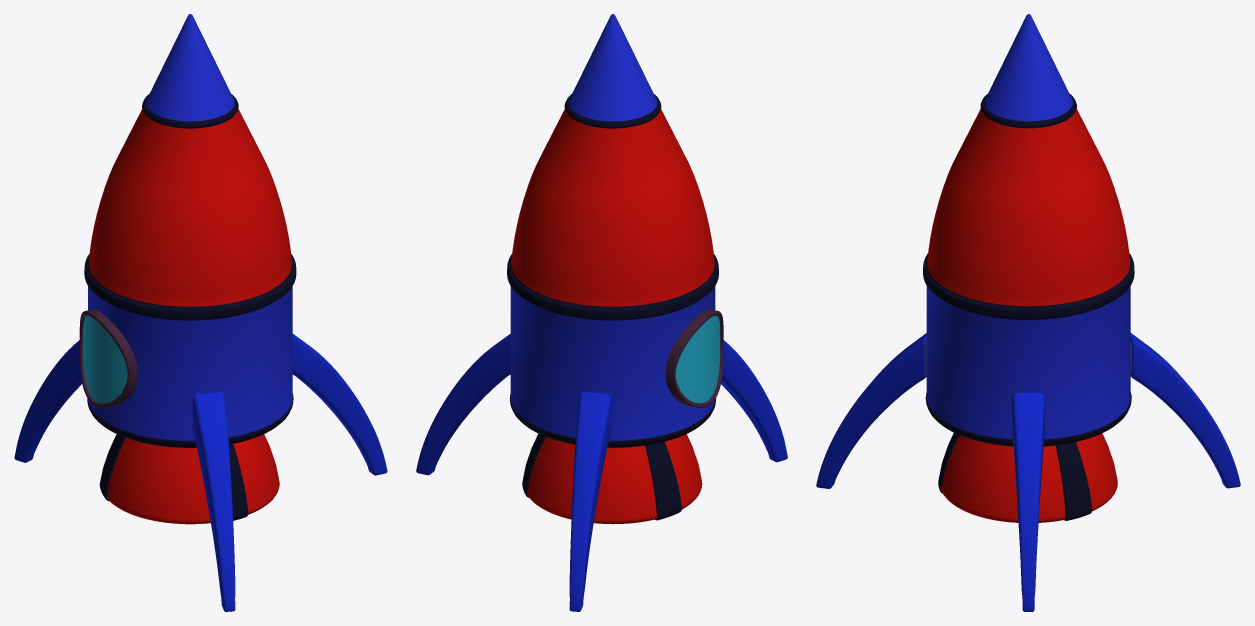
File: Cartoon_rocket.obj
3 renders of one model, left to right at view 1: azimuth 30°, elevation 25°; view 2: azimuth 150°, elevation 25°; view 3: azimuth 270°, elevation 25°, orthographic.
Parts seen in each view (by area): view 1: Cartoon_rocket; view 2: Cartoon_rocket; view 3: Cartoon_rocket.
Boxes of the visible parts, x1=… form: Cartoon_rocket: x1=14, y1=14, x2=387, y2=611; Cartoon_rocket: x1=416, y1=14, x2=787, y2=611; Cartoon_rocket: x1=816, y1=14, x2=1240, y2=611.
Bounding box in the file's own units: 1.92 × 3.17 × 2.42.
